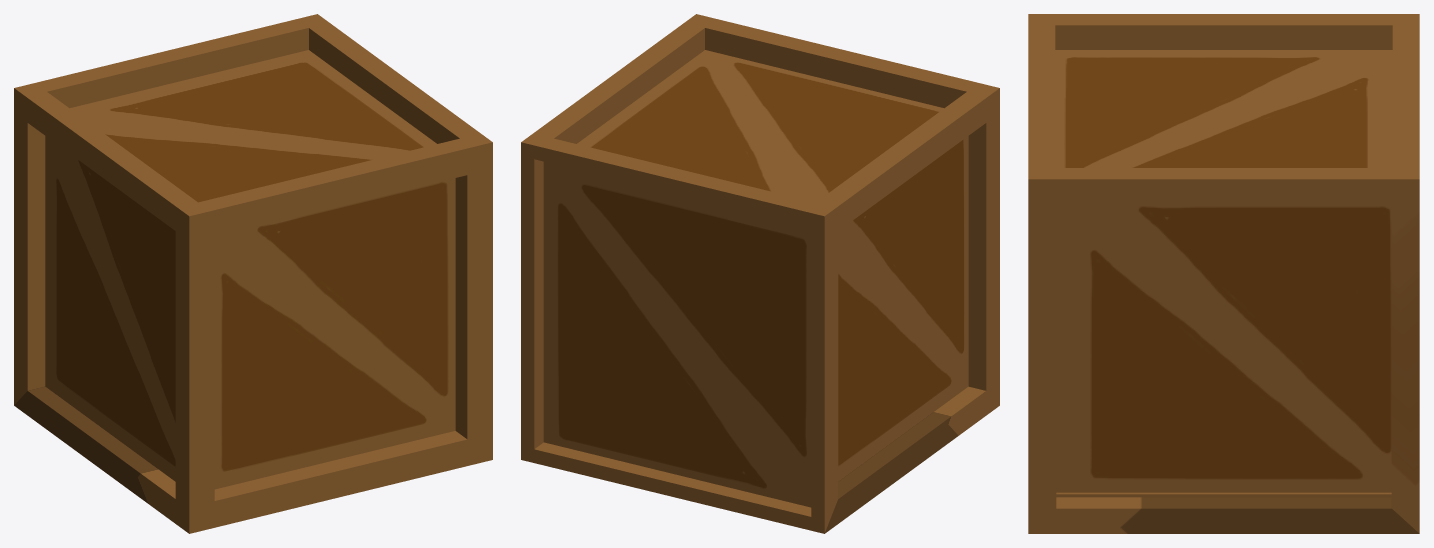
Rendered from Kist.fbx.
3 views of the same model, side by side, from view 1: azimuth 30°, elevation 25°; view 2: azimuth 150°, elevation 25°; view 3: azimuth 270°, elevation 25° (orthographic). The views are drawn at different scales.
Visible parts, largest first — view 1: pCube1; view 2: pCube1; view 3: pCube1.
Part boxes in pixels (<box>): pCube1: <box>14,14,492,533</box>; pCube1: <box>521,14,999,533</box>; pCube1: <box>1028,14,1419,533</box>.
Bounding box in the file's own units: 3.57 × 3.57 × 3.57.
